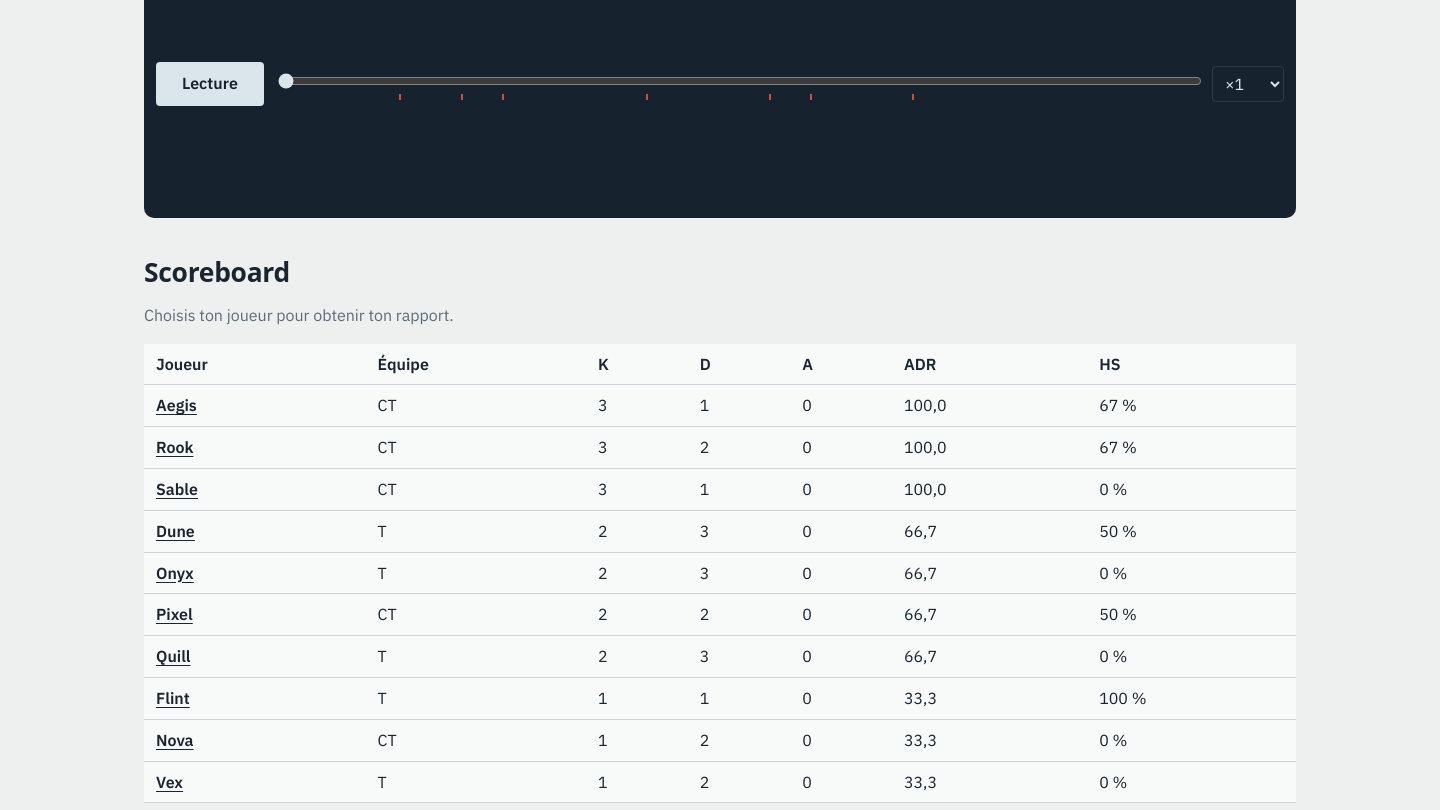
Test: DemoPage › loads the gated report when a player is chosen
The image size is (1440, 810).
(page scrolled)
Click the button "Aegis" at (176, 406), box [156, 393, 197, 418]
(page scrolled)
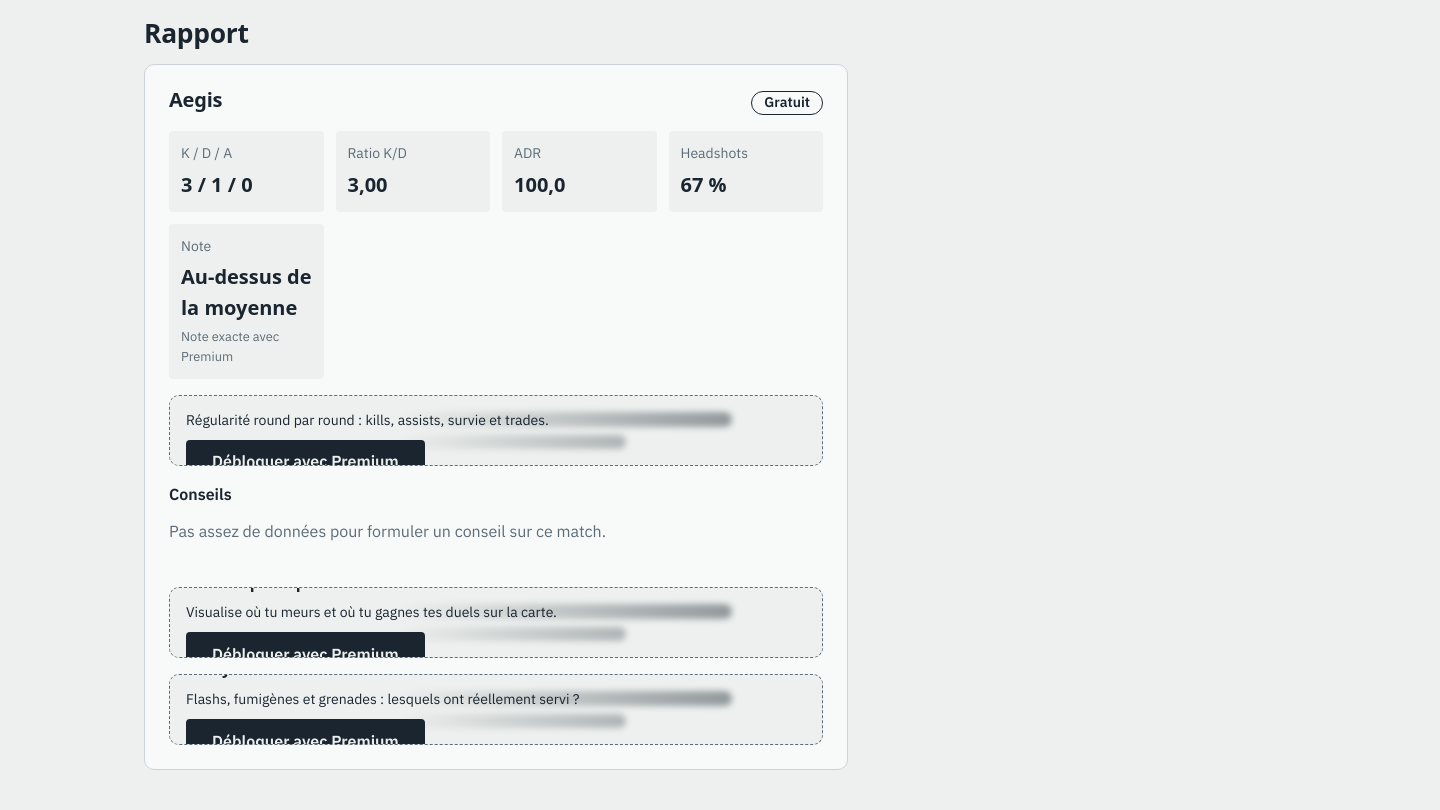
Expected: the element named "Rapport de Aegis" is shown, [144, 64, 848, 770]
Expected: the element named "verrouillé" is shown, [169, 395, 823, 466]
